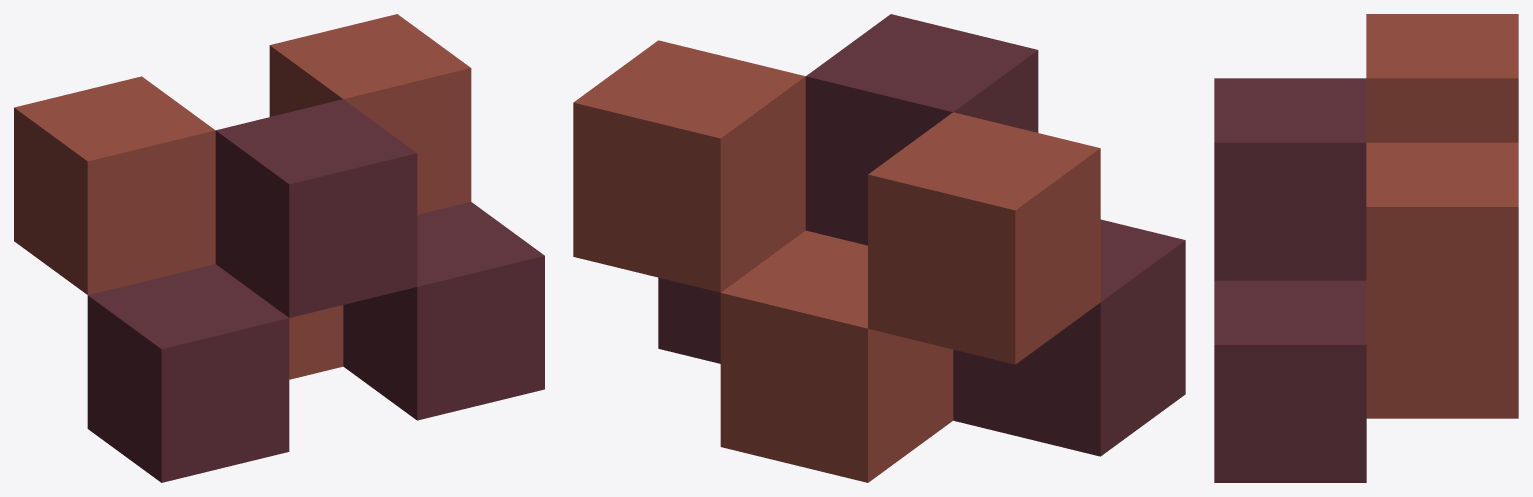
The model's file is NB_TR_F_Braid_Test_4.fbx.
3 views of the same model, side by side, from view 1: azimuth 30°, elevation 25°; view 2: azimuth 150°, elevation 25°; view 3: azimuth 270°, elevation 25° (orthographic). The views are drawn at different scales.
Parts seen in each view (by area): view 1: Braid_Test_4; view 2: Braid_Test_4; view 3: Braid_Test_4.
Part boxes in pixels (box(x1,y1,x2,y2)): Braid_Test_4: box(14, 14, 544, 482); Braid_Test_4: box(573, 14, 1185, 482); Braid_Test_4: box(1214, 14, 1518, 482).
Bounding box in the file's own units: 3 × 2 × 2.
Materials: 1 (1 with a texture image).
